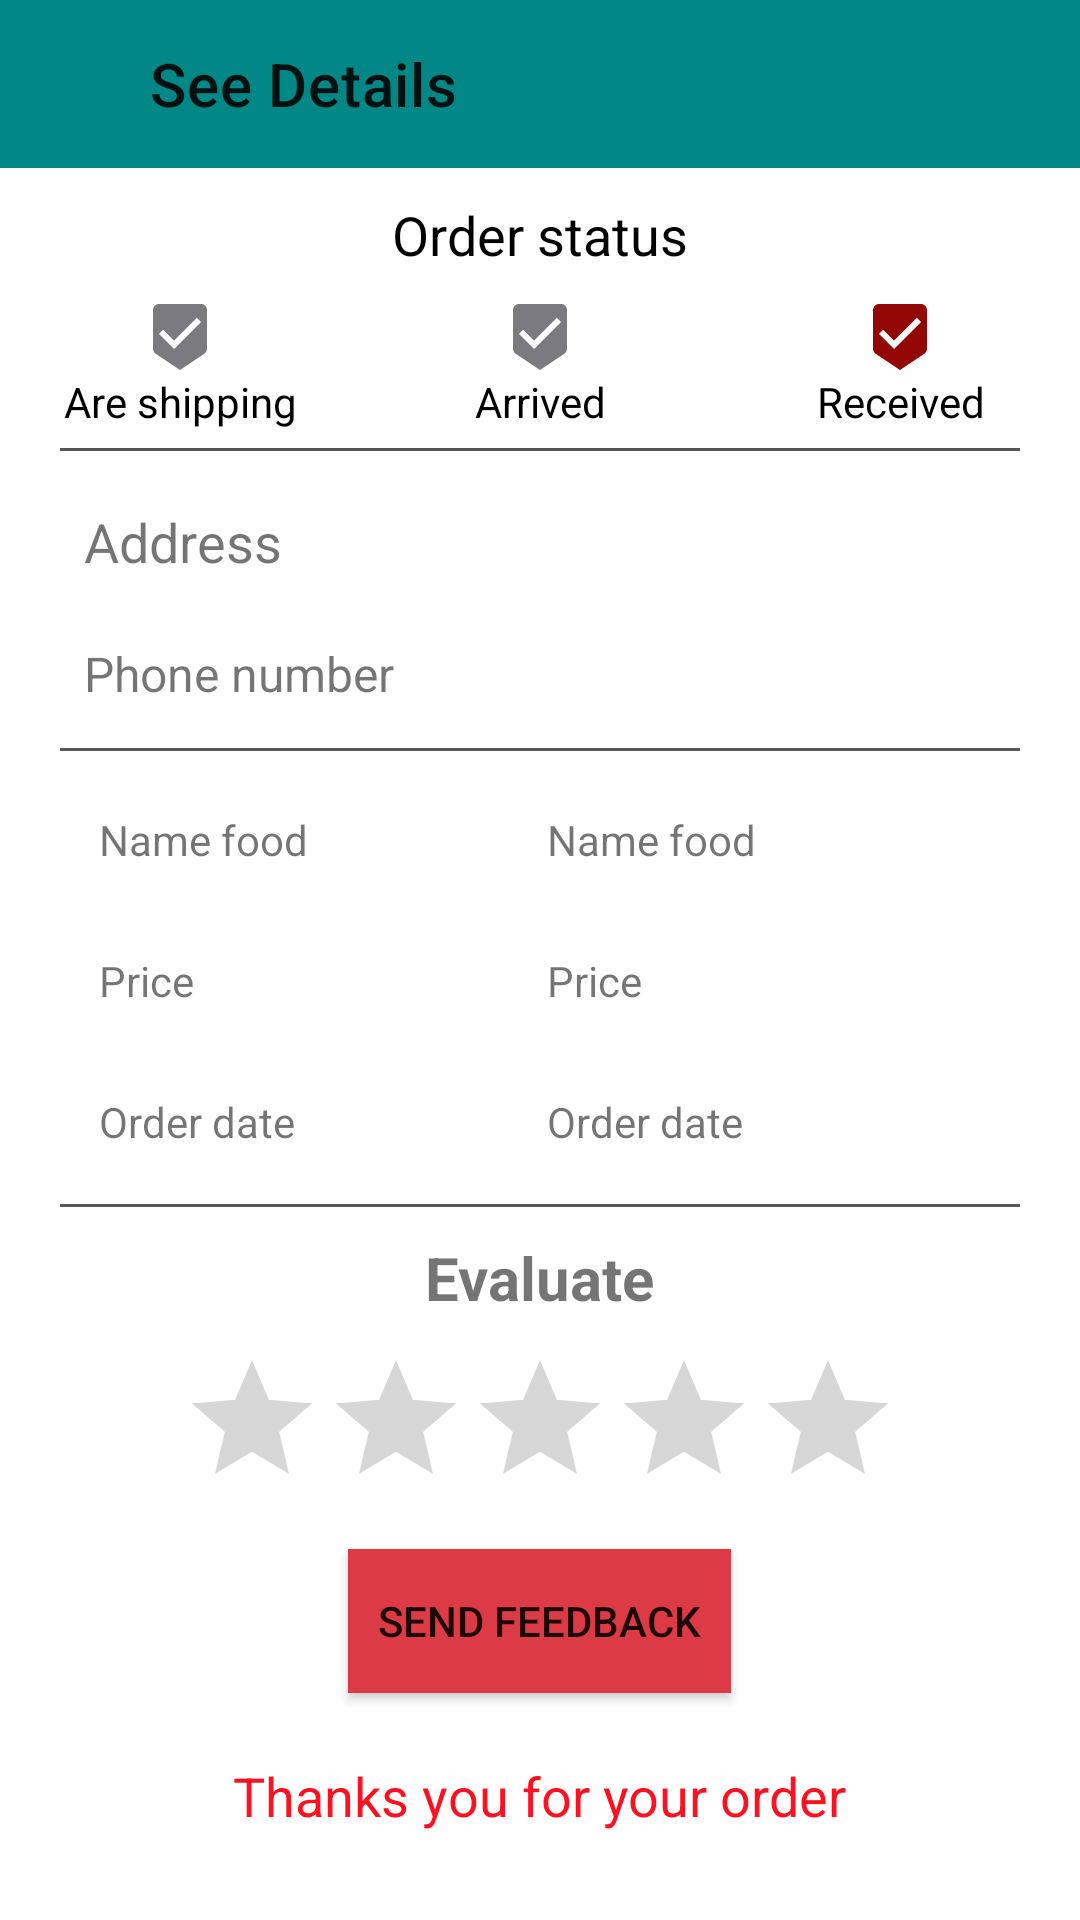

Where to tap for icons on this 1080 × 1920 app screen, as point (x, y):
beenhere: point (180, 337), point (540, 337), point (900, 337)
